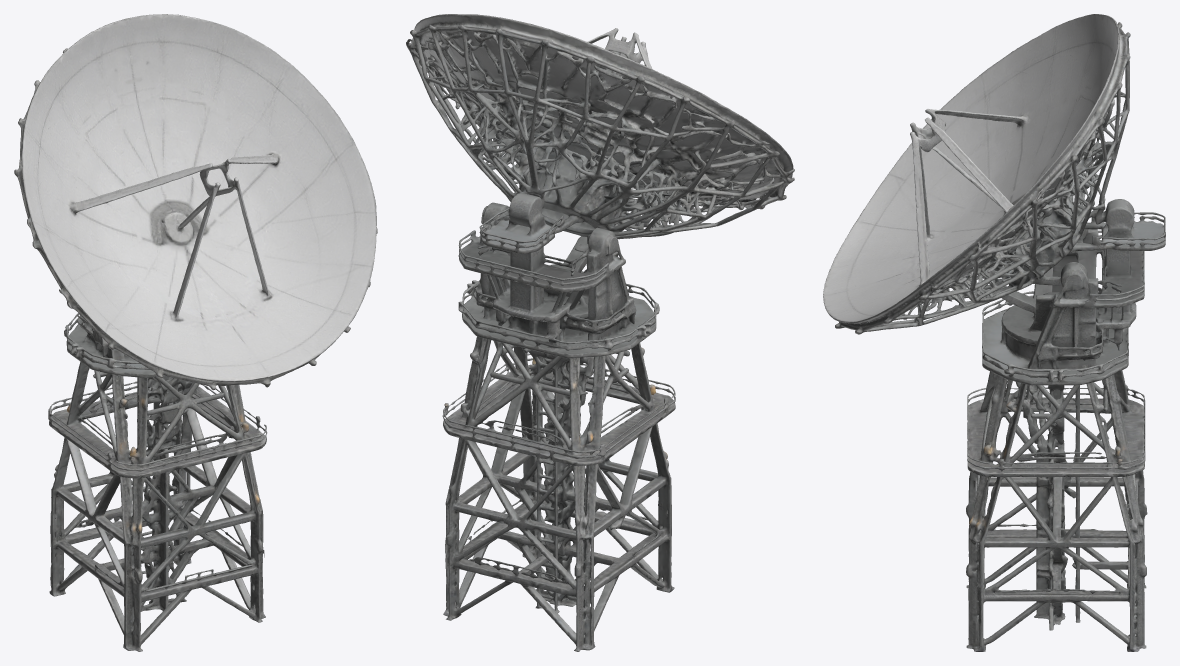
The model's file is phalanx.glb.
3 renders of one model, left to right at view 1: azimuth 30°, elevation 25°; view 2: azimuth 150°, elevation 25°; view 3: azimuth 270°, elevation 25°, orthographic. The views are drawn at different scales.
Bounding box in the file's own units: 1.16 × 1.9 × 1.02.
1 material, 1 textured.
